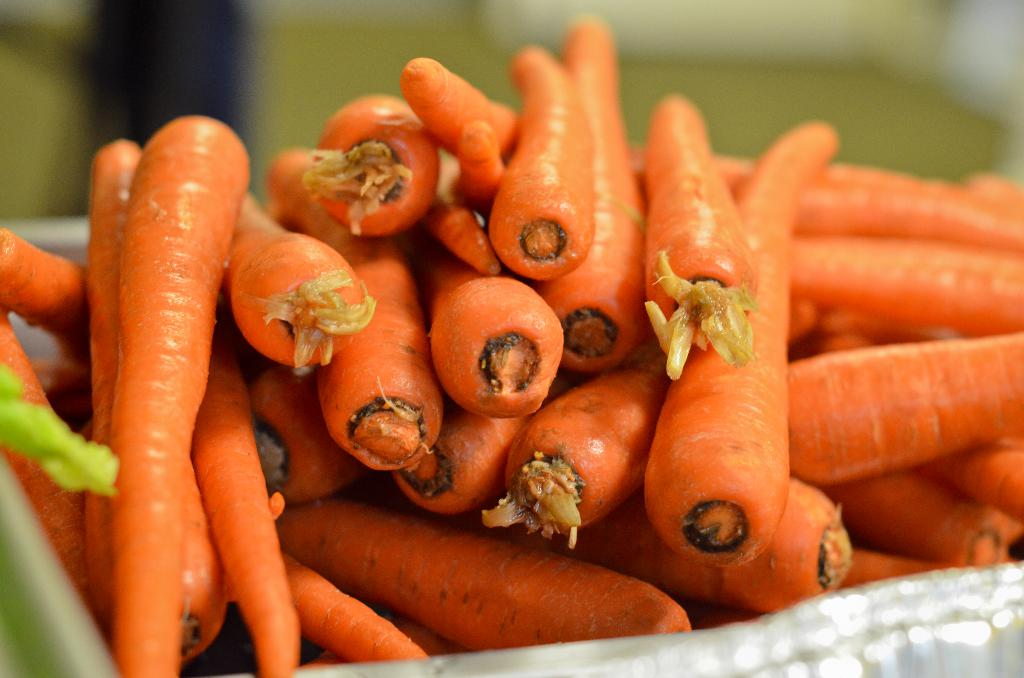Carrot: (0, 16, 1023, 678)
